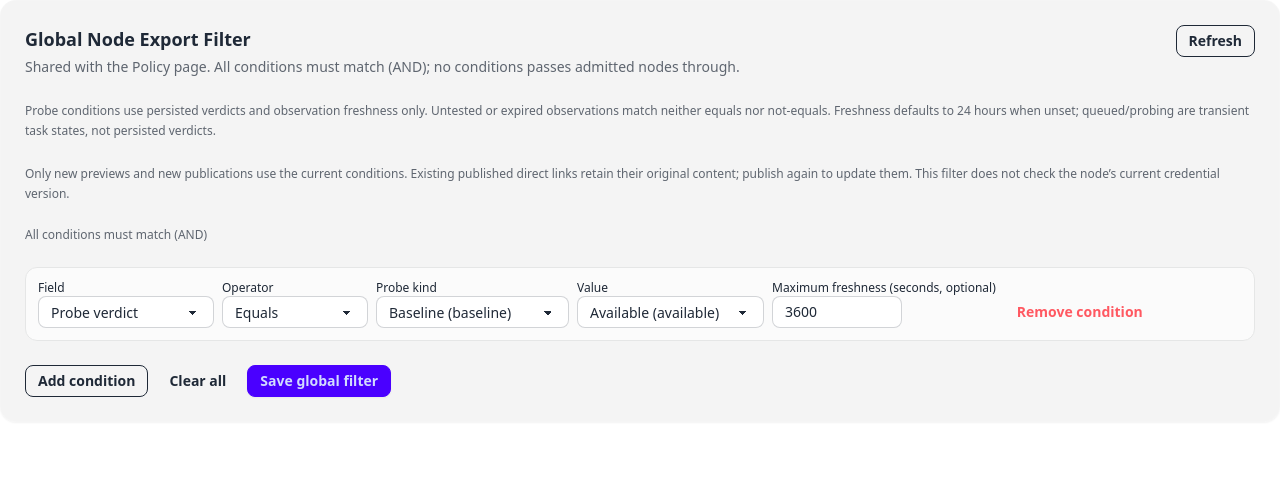
Test: global export filter settings › supports all domain fields and en-US labels, restores server values after refresh
Select "Display name" in the dropdown named "Field" at (126, 312), box [38,296,214,328]
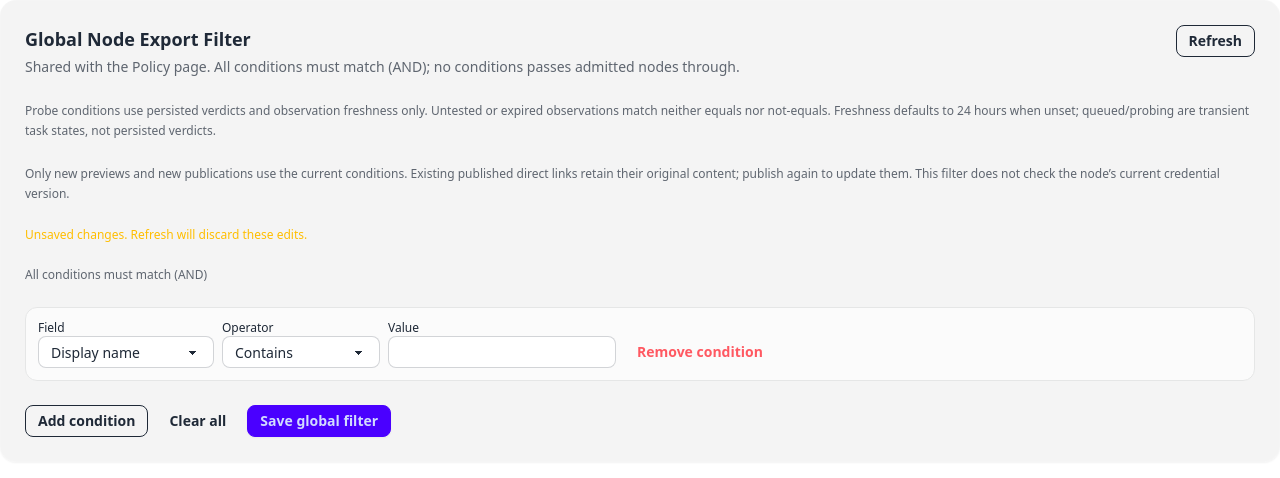
Type "My node" into the field named "Value".
click(502, 352); type("My node")  # box [388,336,616,368]
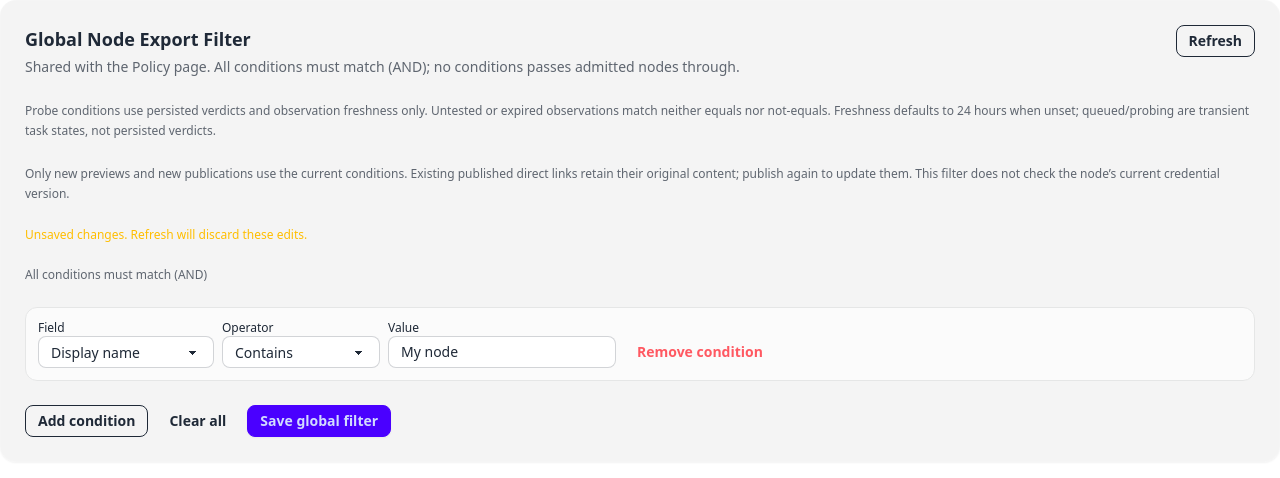
Expected: the text "Unsaved changes" is shown, [25,226,307,243]
Click the button "Refresh".
click(1215, 41)  # box [1176,25,1255,57]
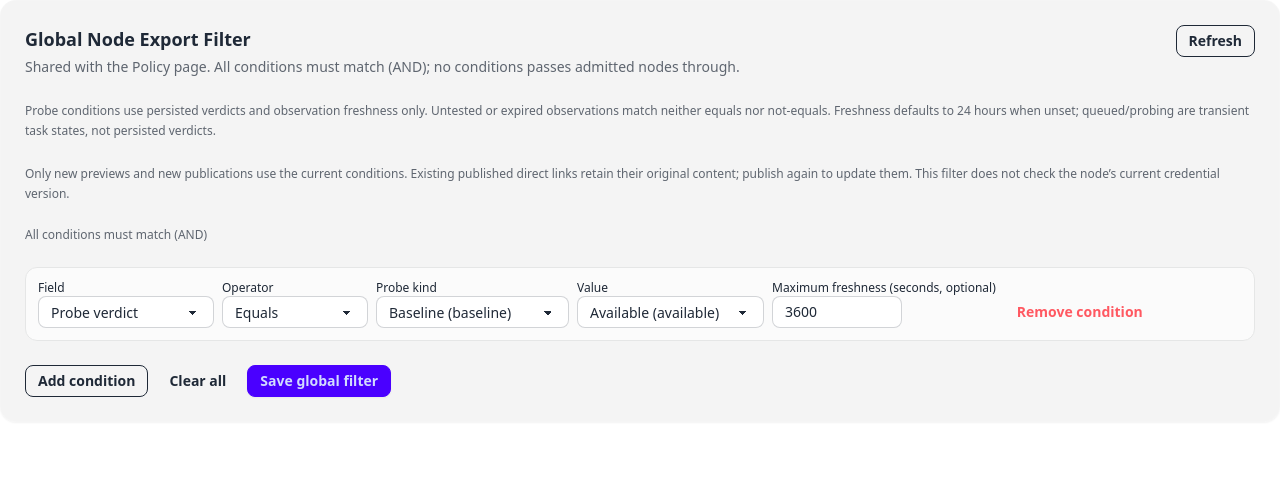
Expected: the text "Unsaved changes" is gone
